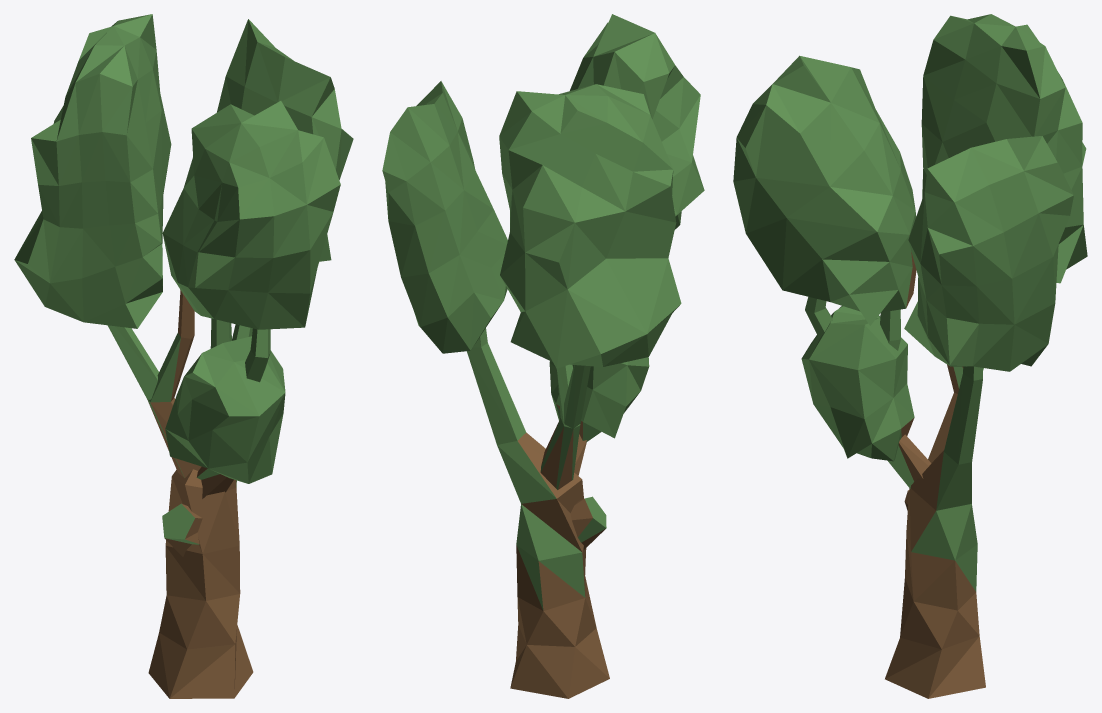
The model's file is tree3d-128.glb.
3 views of the same model, side by side, from view 1: azimuth 30°, elevation 25°; view 2: azimuth 150°, elevation 25°; view 3: azimuth 270°, elevation 25° (orthographic). The views are drawn at different scales.
Visible parts, largest first — view 1: tree3d-128; view 2: tree3d-128; view 3: tree3d-128.
Boxes of the visible parts, x1,y1,x2,y2 form: tree3d-128: (14,14,353,698); tree3d-128: (382,14,704,698); tree3d-128: (733,14,1087,698).
Size of the model in its own units: 0.4988 by 1 by 0.5124.
